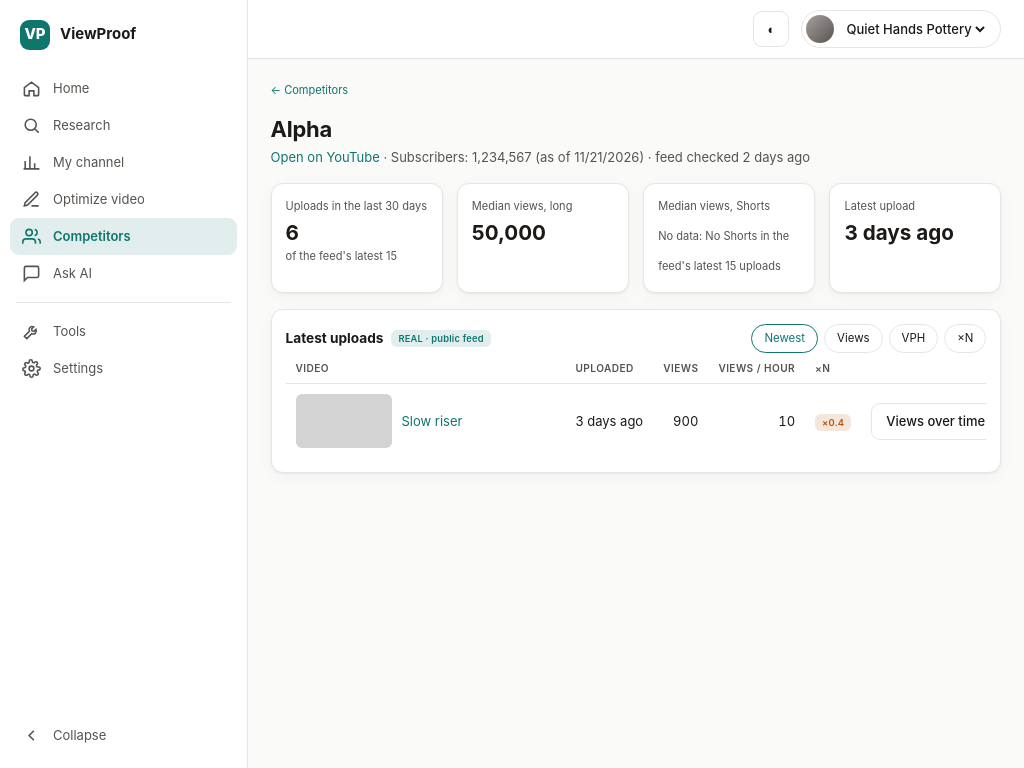
it: competitors › detail: videos table and views-over-time line with a table view
Check: the heading "Alpha" is shown, box [270, 116, 332, 142]
Step 1. Click the button with aria-label "Views over time: Slow riser" → point(936, 421), box [871, 403, 1000, 440]
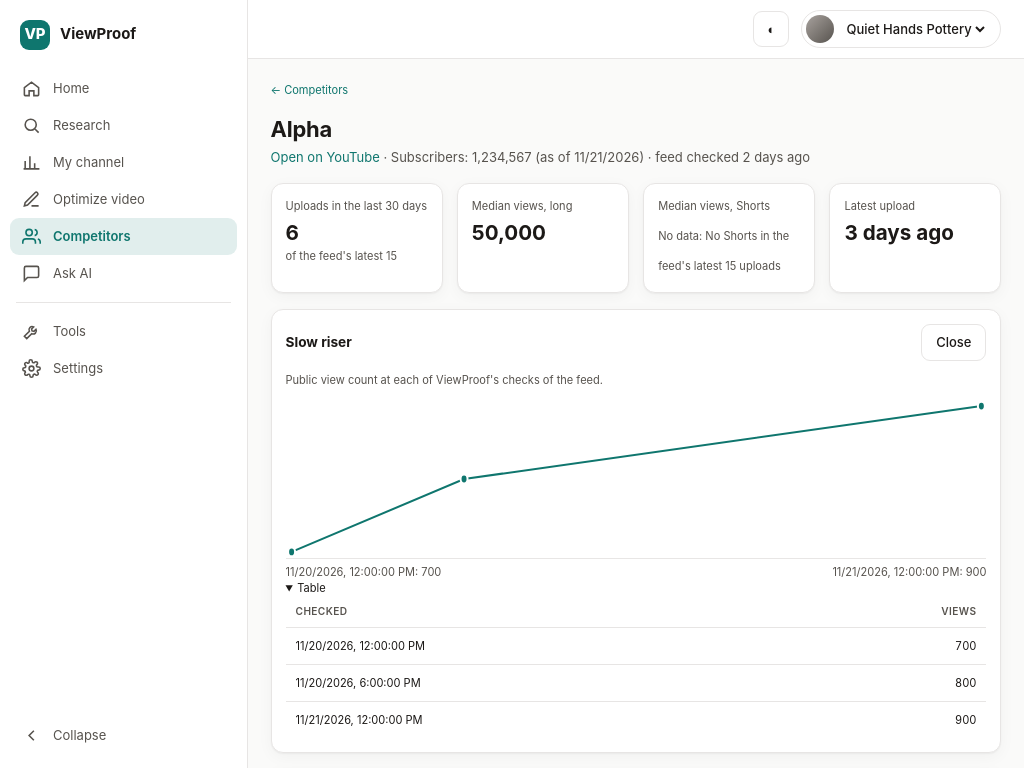
Check: the picture named "Views of Slow riser over time, 3 checks" is shown, box [286, 399, 986, 559]
Check: the number of rows is 4, box [286, 596, 986, 627]; [286, 627, 986, 664]; [286, 664, 986, 701]; [286, 701, 986, 738]
Check: the text "800" is shown, box [797, 664, 986, 701]
